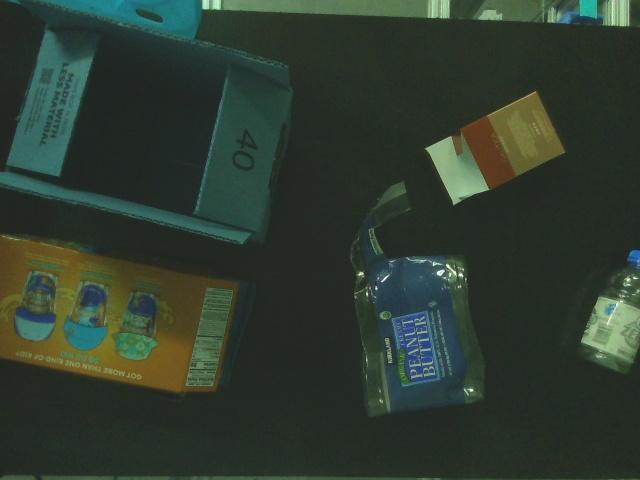cardboard: (0, 0, 296, 257), (0, 221, 272, 412), (418, 88, 576, 208)
plastic: (347, 177, 487, 420), (570, 248, 640, 379)
